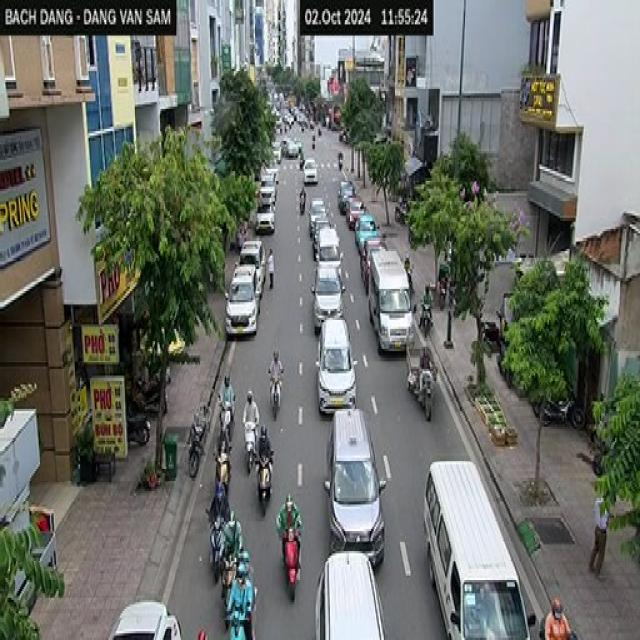car: (421, 458, 531, 638), (320, 406, 394, 562), (310, 548, 398, 640), (314, 314, 362, 414), (108, 600, 182, 638), (310, 258, 344, 326)
motorcycle: (281, 524, 301, 600)
person: (588, 494, 612, 576), (544, 598, 571, 638), (268, 349, 284, 404), (266, 247, 274, 289)
